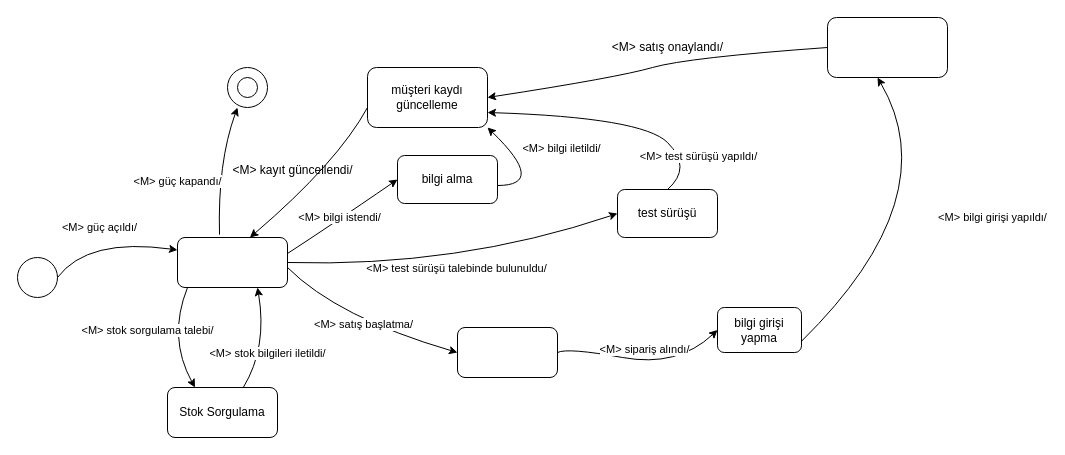
This 1065x455 diagram has some shape labels left out. The centre of each missing label's shape, as x and y in pixels:
Boşta bekleme: the point at 232,262
Satış onaylama: the point at 887,47
sipariş alma: the point at 507,352
